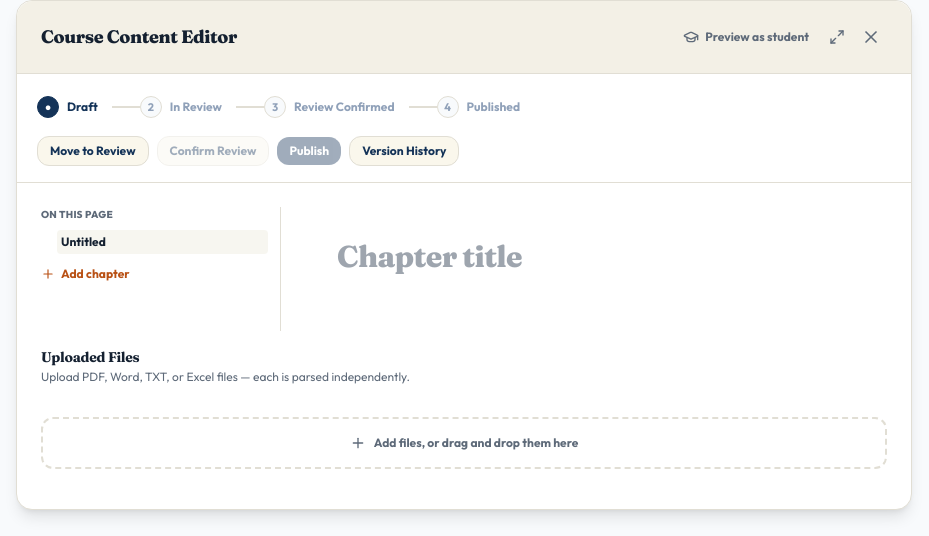
Test: CourseContentEditor -- Topic/Sub-Topic structure (Story 7.2) › Escape while the slash-menu is open closes only the menu, not the whole Course Content Editor
The image size is (929, 536).
Type "/para" into the field at (592, 269), box [337,239,847,299]
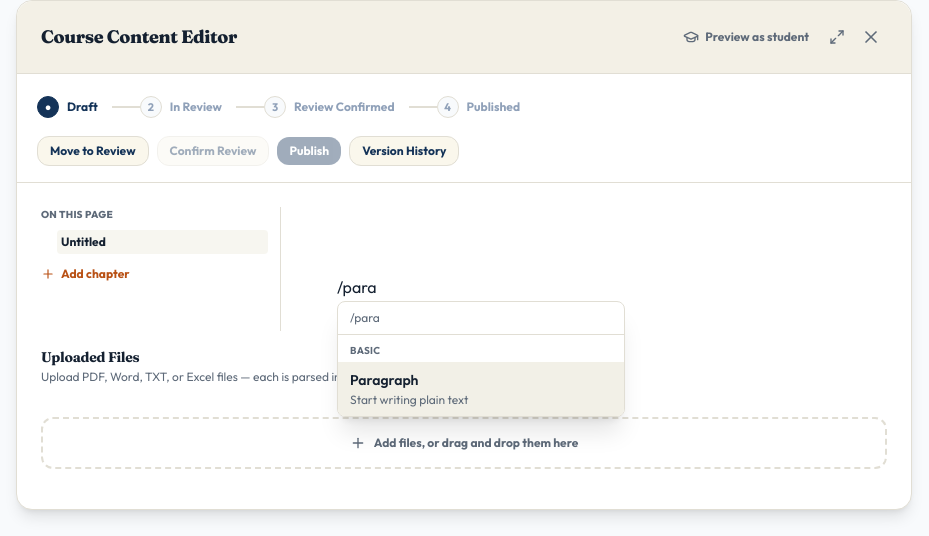
Now the list "/para Basic Paragraph Start writing plain text" is shown, box [337,301,625,417]
Press Escape
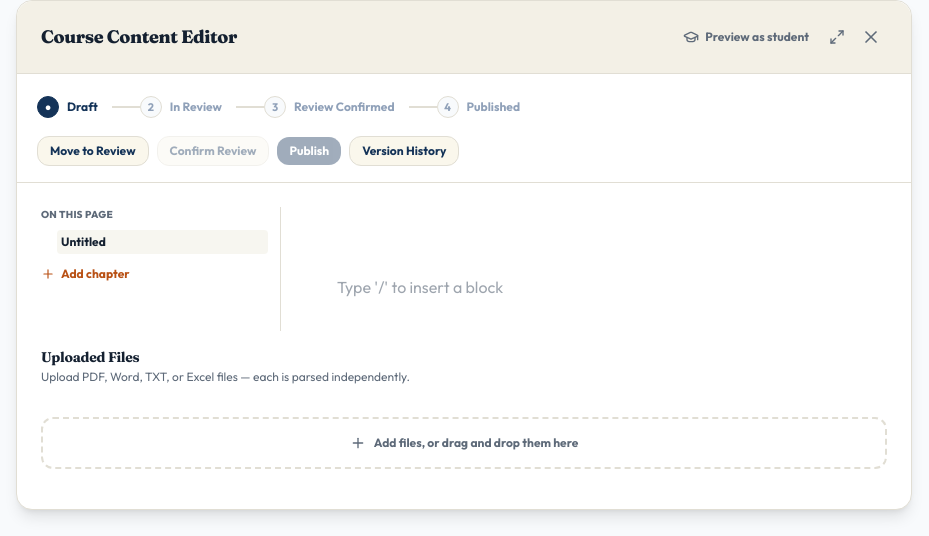
Expected: the heading "Course Content Editor" is shown, [41,23,237,51]
Now the list "/para Basic Paragraph Start writing plain text" is gone
